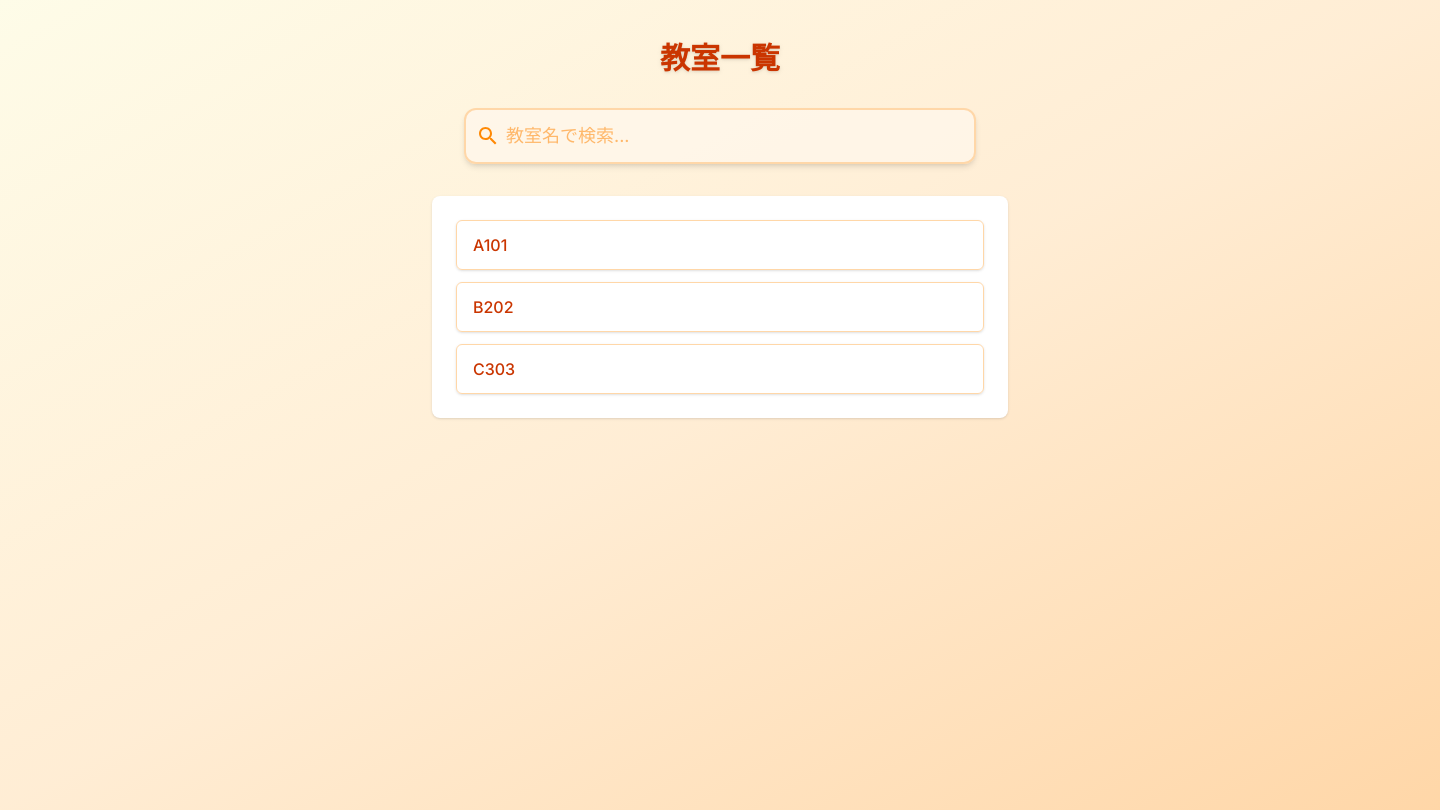
Test: Home page › filters rooms by search text
The image size is (1440, 810).
Type "B" into the field with placeholder "教室名で検索..." at [720, 136], box [464,108,976,164]
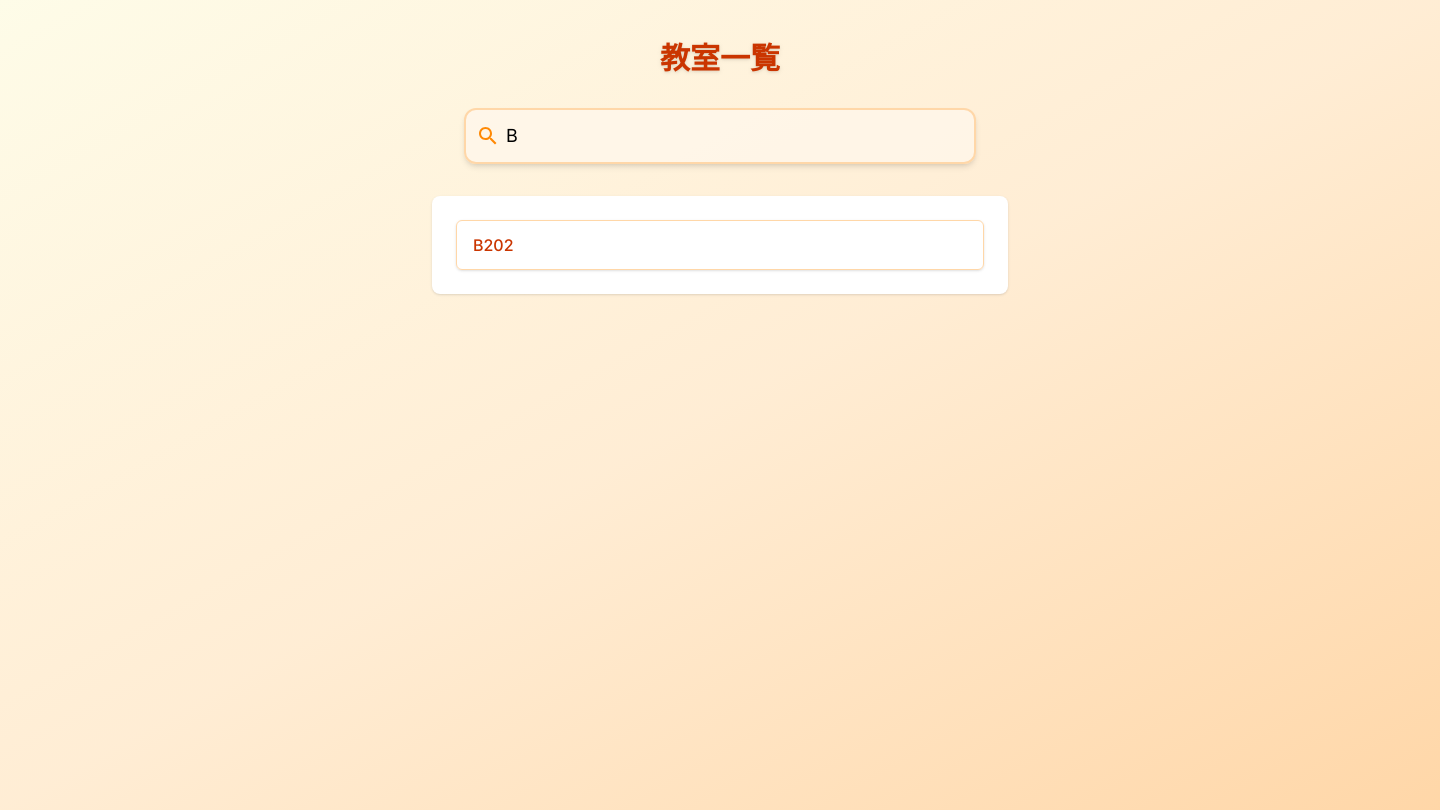
Expected: the link "B202" is shown, [456,220,984,270]
Expected: the link "A101" is gone
Expected: the link "C303" is gone
